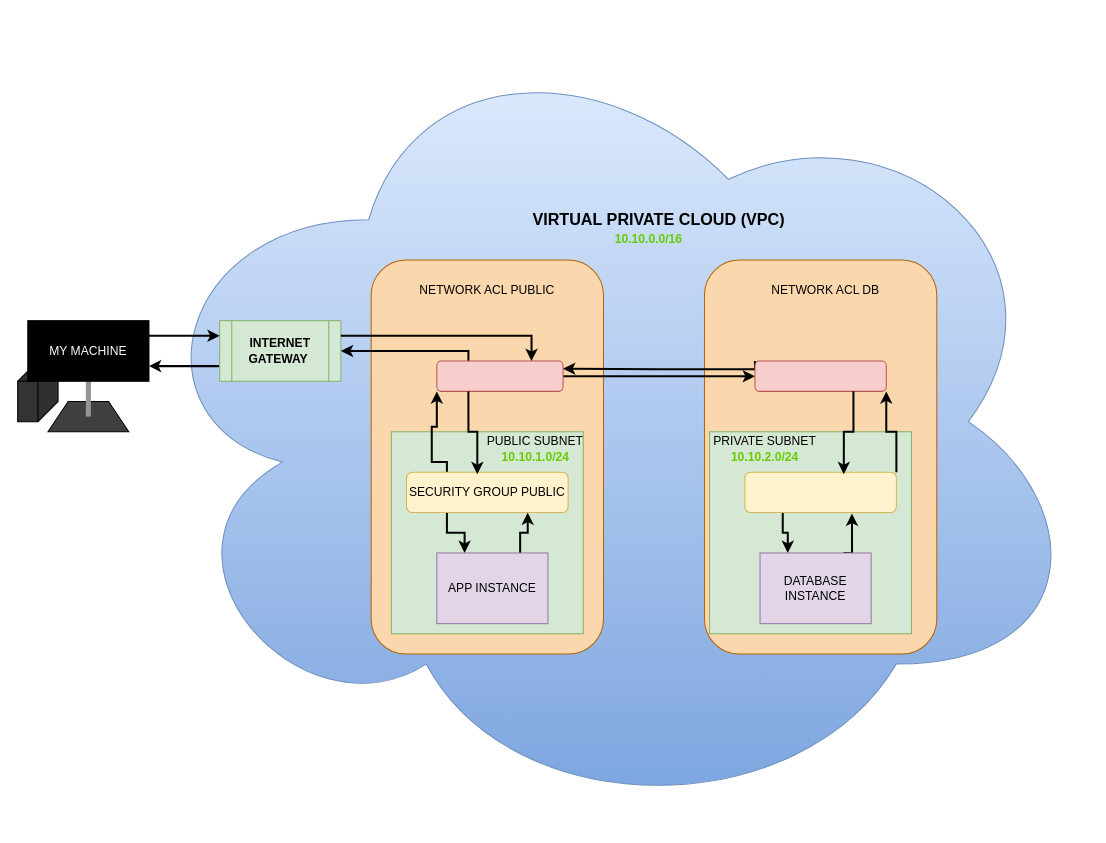
This 1106x843 diagram has some shape labels left out. Each missing label, with the box of its shape:
ROUTING TABLE DB: (754, 360, 886, 391)
ROUTING TABLE PUBLIC: (436, 360, 563, 391)
SECURITY GROUP DB: (744, 471, 896, 513)
